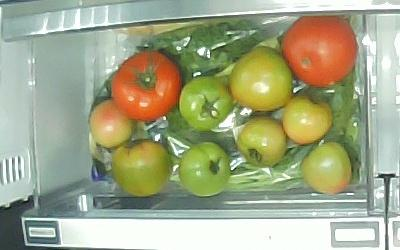tomato: (282, 16, 357, 87), (111, 51, 182, 121), (231, 47, 294, 111), (111, 139, 174, 196), (180, 76, 234, 130), (179, 141, 231, 196), (283, 94, 333, 145), (302, 143, 352, 194), (237, 116, 287, 166), (90, 100, 134, 148)
